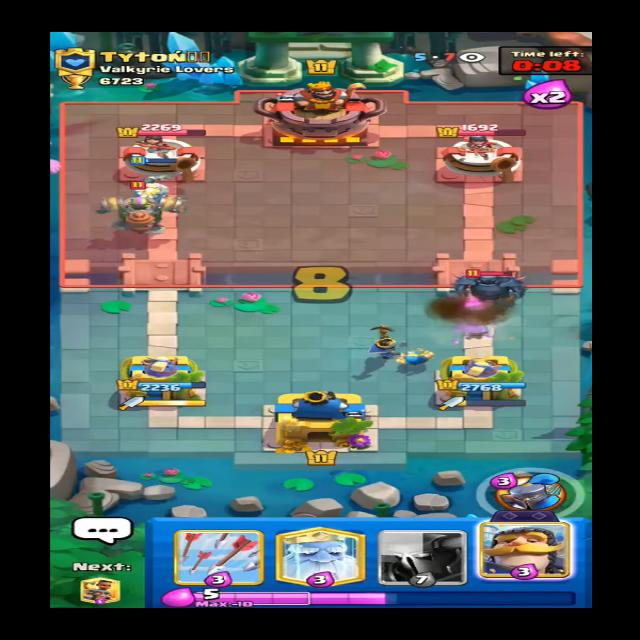goblin-machine: (100, 182, 180, 238)
pekka: (447, 261, 530, 302)
